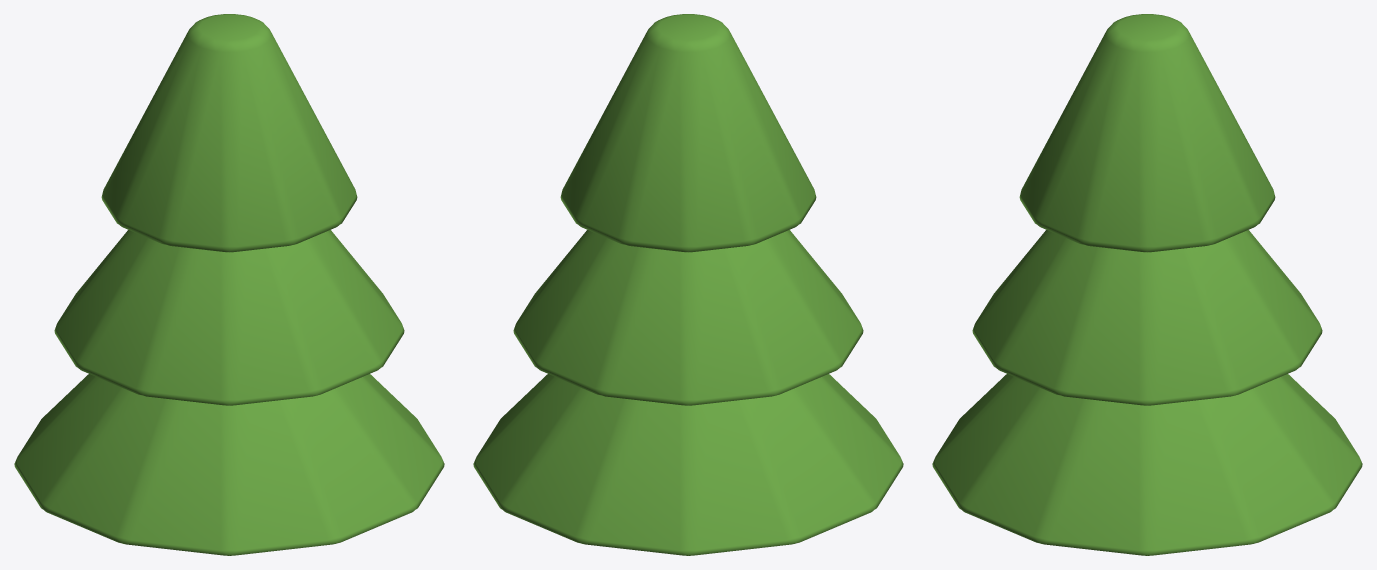
Rendered from camp_tree.glb.
3 renders of one model, left to right at view 1: azimuth 30°, elevation 25°; view 2: azimuth 150°, elevation 25°; view 3: azimuth 270°, elevation 25°, orthographic.
Parts seen in each view (by area): view 1: Tree_Canopy; view 2: Tree_Canopy; view 3: Tree_Canopy.
Part boxes in pixels (x1,y1,x2,y2): Tree_Canopy: [14, 14, 444, 555]; Tree_Canopy: [473, 14, 903, 555]; Tree_Canopy: [932, 14, 1362, 555].
Bounding box in the file's own units: 0.5859 × 0.76 × 0.5859.
